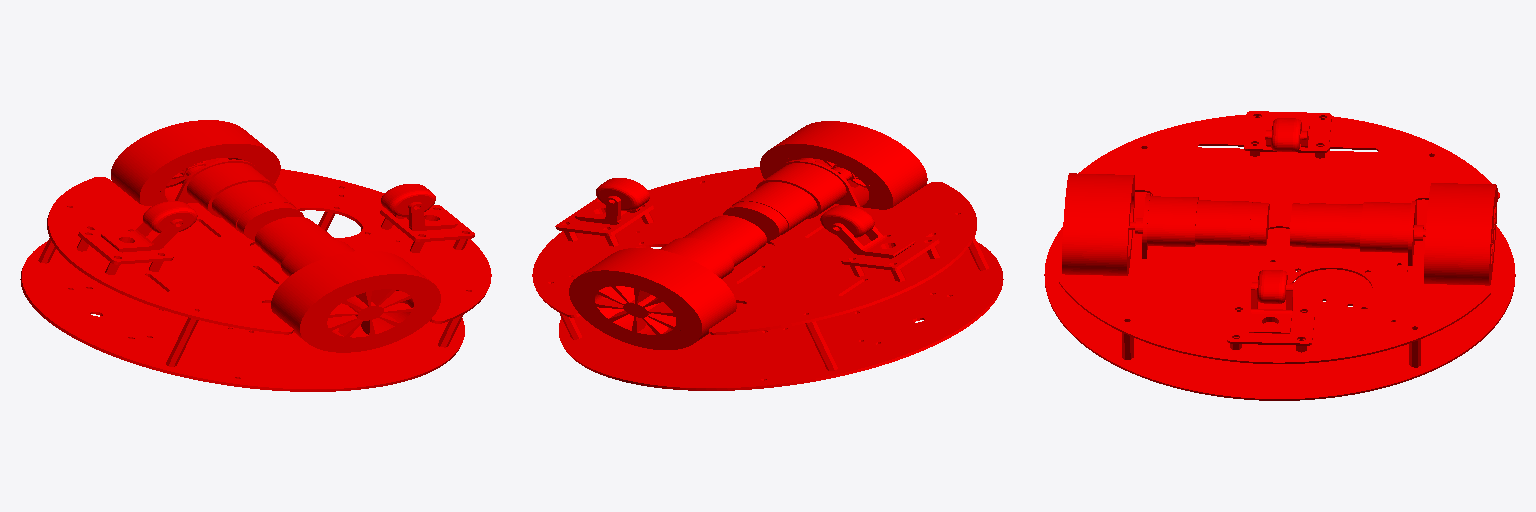
robot.urdf — llama_bot:
<?xml version="1.0"?>
<robot name="llama_bot">
    <link name="base_link">
        <visual>
            <geometry>
                <mesh filename="package://llama_pkg/meshes/base_link.STL" scale="0.002 0.002 0.001"/>
            </geometry>
            <material name="red">
                <color rgba="1 0.0 0.0 1.0"/>
            </material>
            <origin xyz="0.12 -0.16 -0.25" rpy="3.14 0 1.560"/>
        </visual>        
    </link>

</robot>

--- Facts derived from the render (not from the file) ---
Views: 3 orthographic renders of the robot side by side, from view 1: azimuth 30°, elevation 25°; view 2: azimuth 150°, elevation 25°; view 3: azimuth 270°, elevation 25°.
Model llama_bot with 1 links and 0 joints (none), rooted at base_link, posed every joint at zero.
Links seen in each view (by area): view 1: base_link; view 2: base_link; view 3: base_link.
Link boxes in pixels (bbox=[...]): base_link: bbox=[20, 120, 491, 391]; base_link: bbox=[532, 121, 1003, 390]; base_link: bbox=[1044, 111, 1515, 400].
Size in the robot's own frame: 0.4455 by 0.432 by 0.1497 metres.
1 mesh visuals loaded from 1 distinct referenced files (1 binary STL).